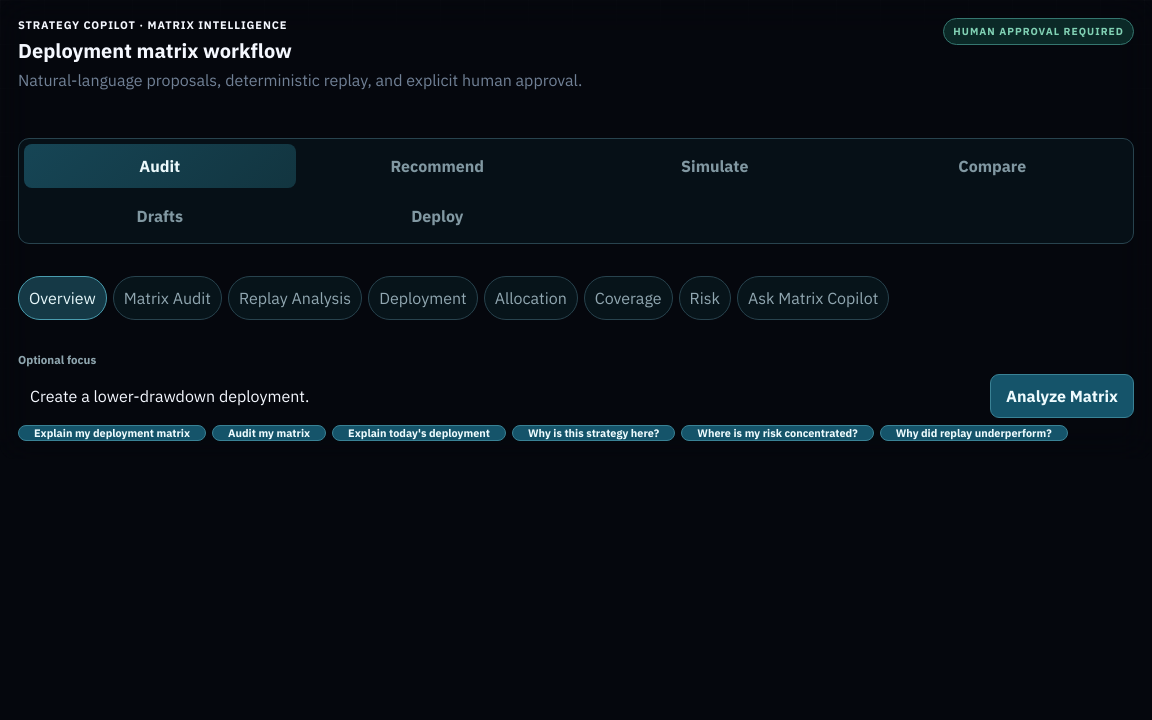
Test: MatrixCopilotPanel › renders a simulated proposal, deterministic comparison, and matrix diff
The width and height of the screenshot is (1152, 720).
Step 1. Click the button "Simulate" → (715,166), box [579,144,850,188]
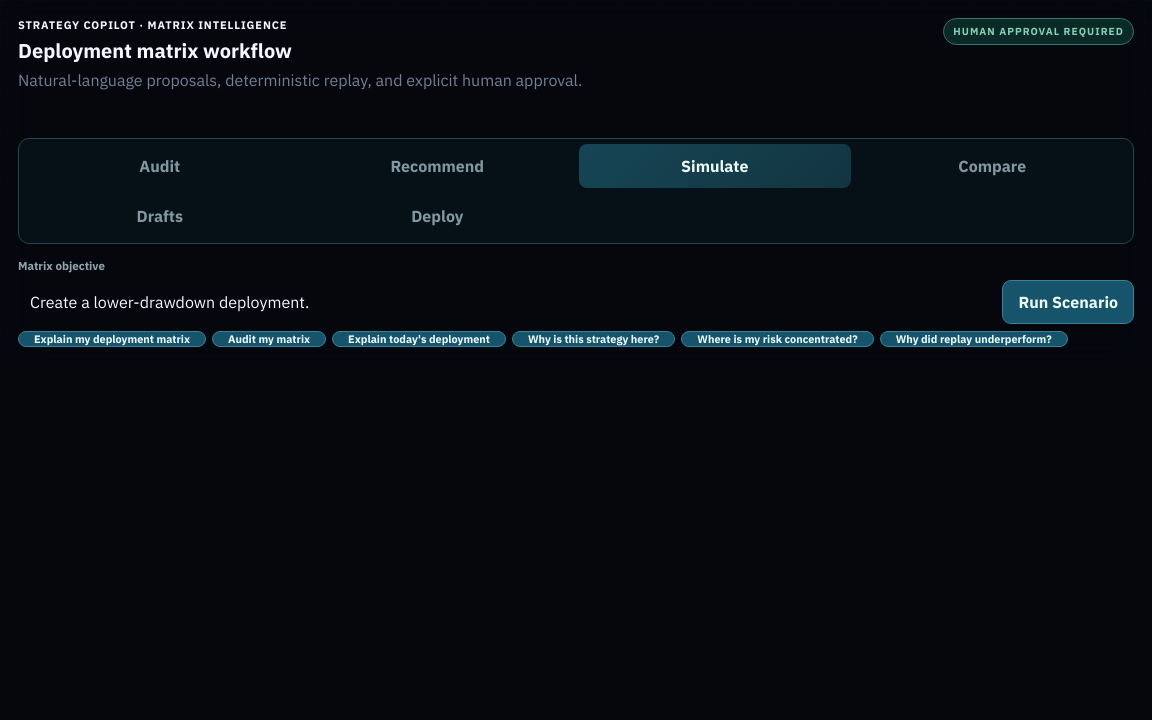
Step 2. Type "Set low-evidence cells to Sit Out." into the field labelled "Matrix objective" → (506,302), box [18,280,994,324]
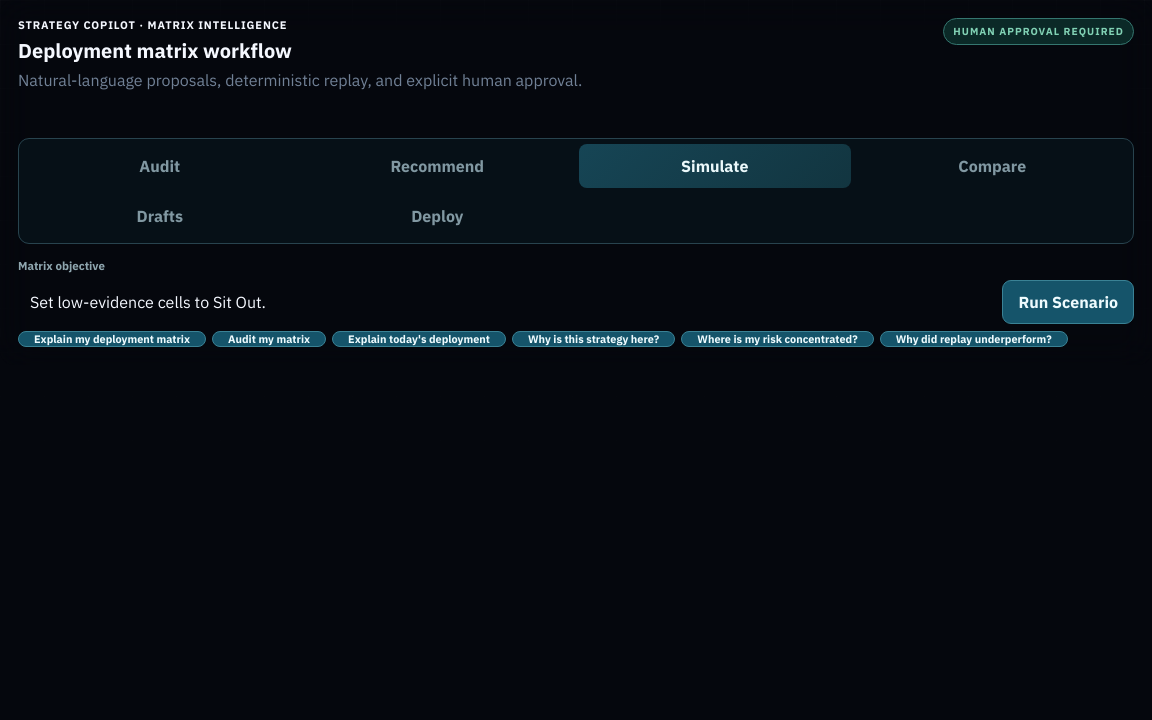
Step 3. Click the button "Run Scenario" → (1068,302), box [1002,280,1134,324]
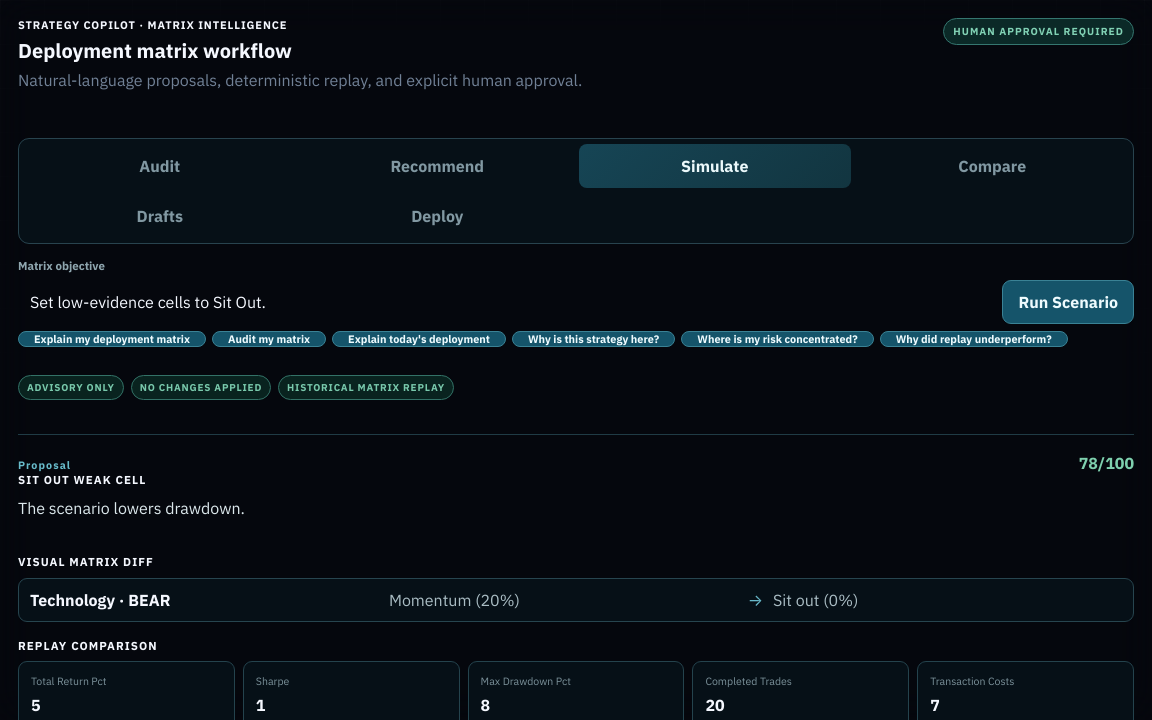
Expected: the text "The scenario lowers drawdown." is shown, [18,495,245,522]
Expected: the text "NO CHANGES APPLIED" is shown, [131,375,271,400]
Expected: the text "Momentum (20%)" is shown, [389,590,520,610]
